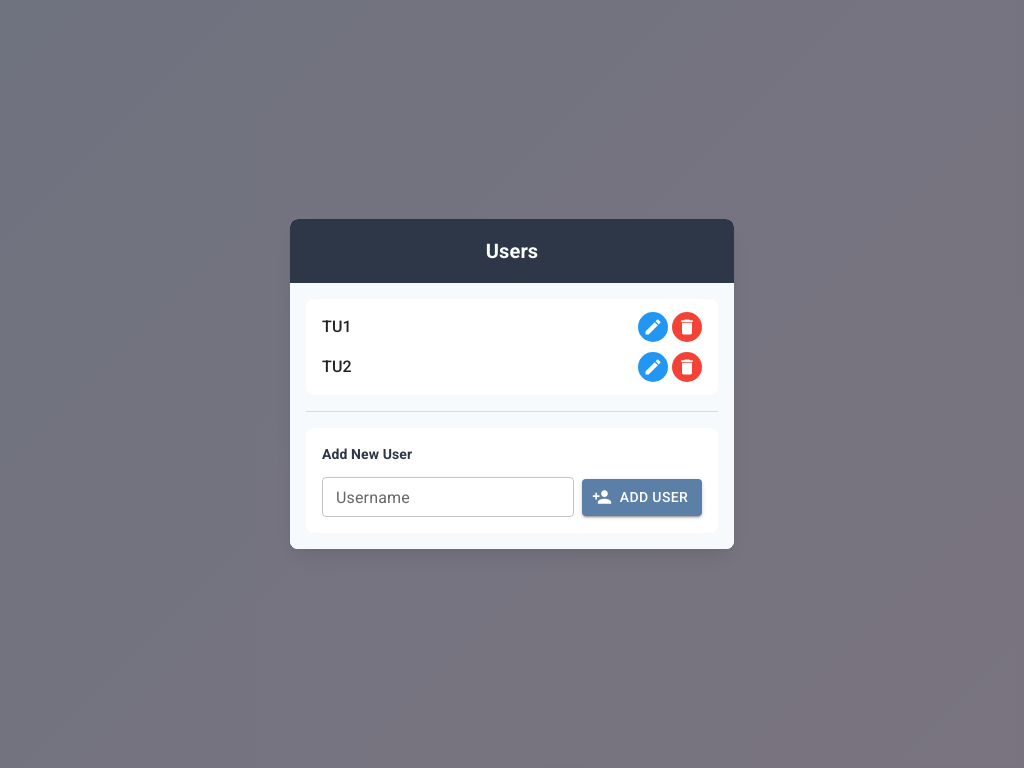
edit-user
The image size is (1024, 768).
Expected: the text "TU1" is shown, [322,316,352,336]
Click the button named "Edit TU1".
click(653, 326)  # box [638,312,668,342]
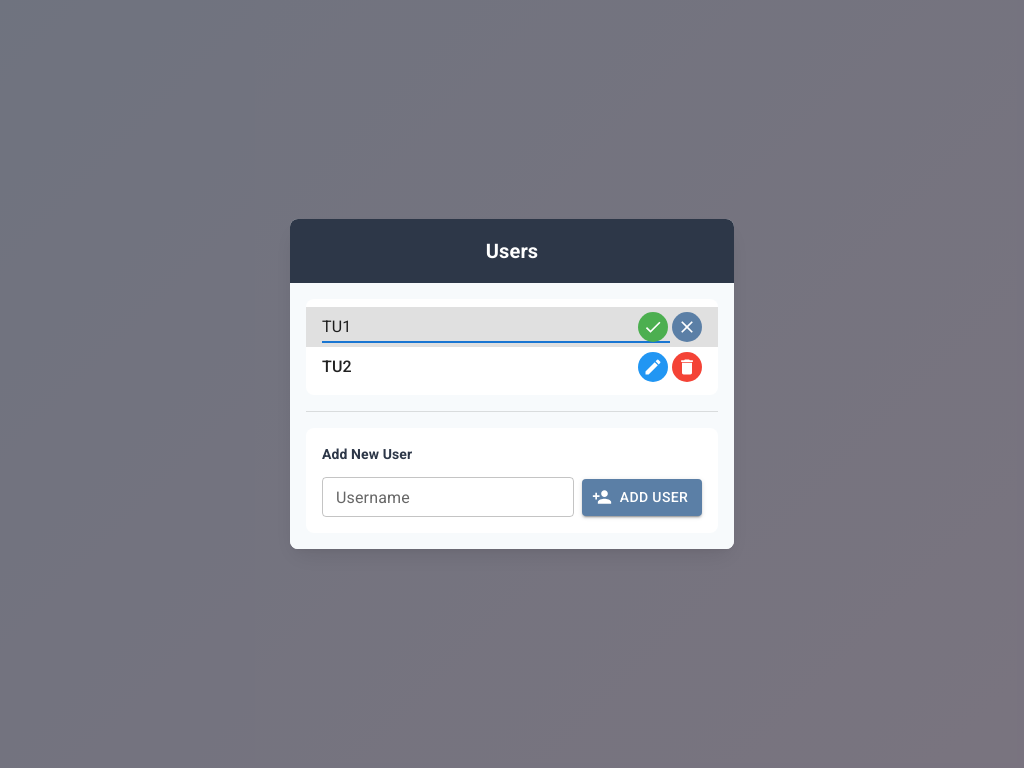
Replace the text in the field showing "TU1" with "TU1-Edited" at coordinates (496, 326), box [322,310,670,342]
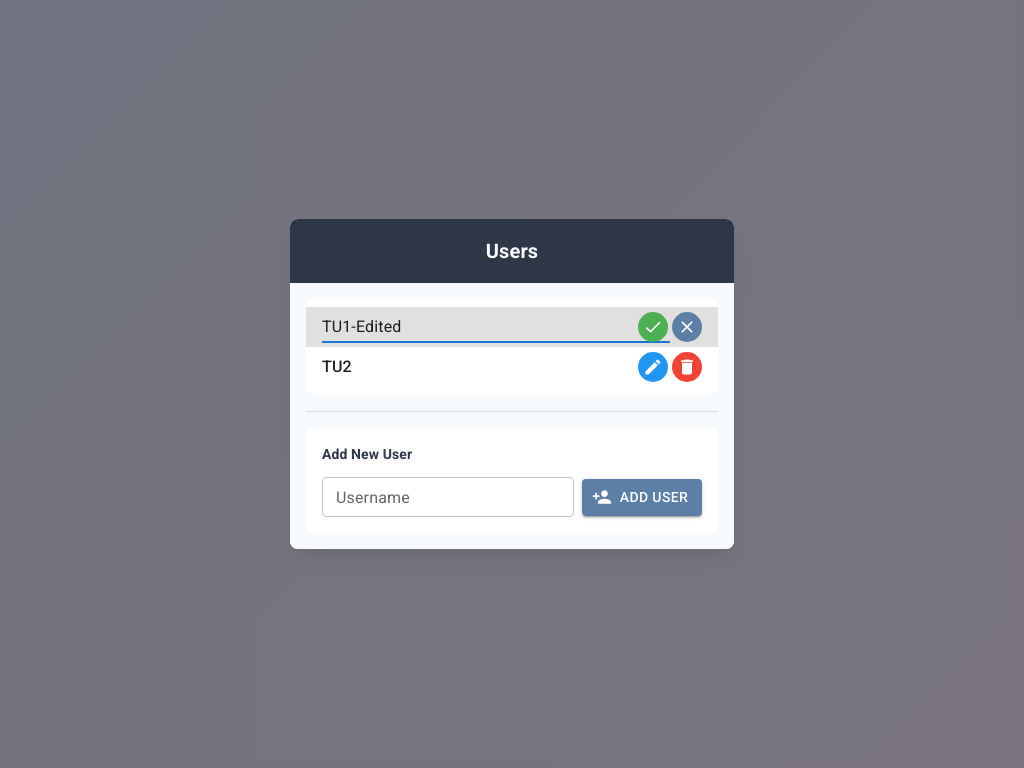
Click the button named "Save edit".
click(653, 326)  # box [638,312,668,342]
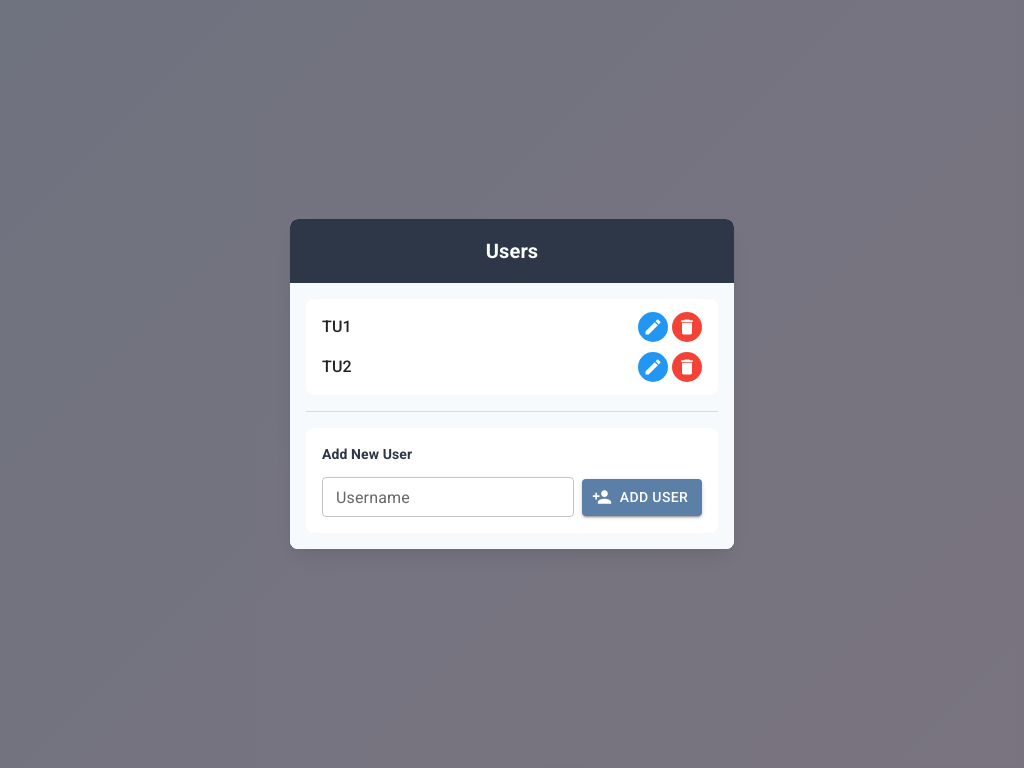
Expected: the text "TU1" is shown, [322,316,352,336]
